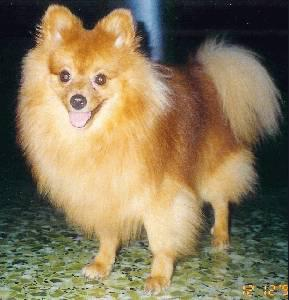dog-pomeranian: (36, 3, 134, 127)
